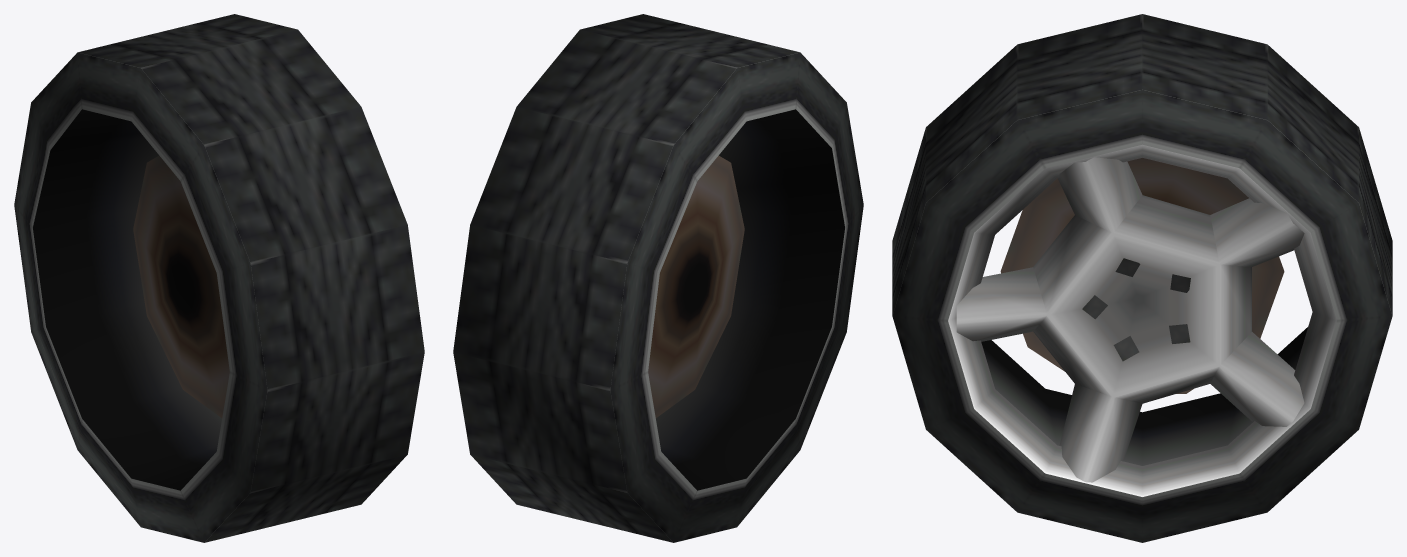
The model's file is DefaultWheel_sultan.glb.
3 renders of one model, left to right at view 1: azimuth 30°, elevation 25°; view 2: azimuth 150°, elevation 25°; view 3: azimuth 270°, elevation 25°, orthographic.
Visible parts, largest first — view 1: wheel; view 2: wheel; view 3: wheel.
Part boxes in pixels (bbox=[...]): wheel: bbox=[14, 14, 424, 542]; wheel: bbox=[453, 14, 863, 542]; wheel: bbox=[892, 14, 1392, 542].
Bounding box in the file's own units: 0.2816 × 0.6884 × 0.6884.
2 materials, 2 textured.
